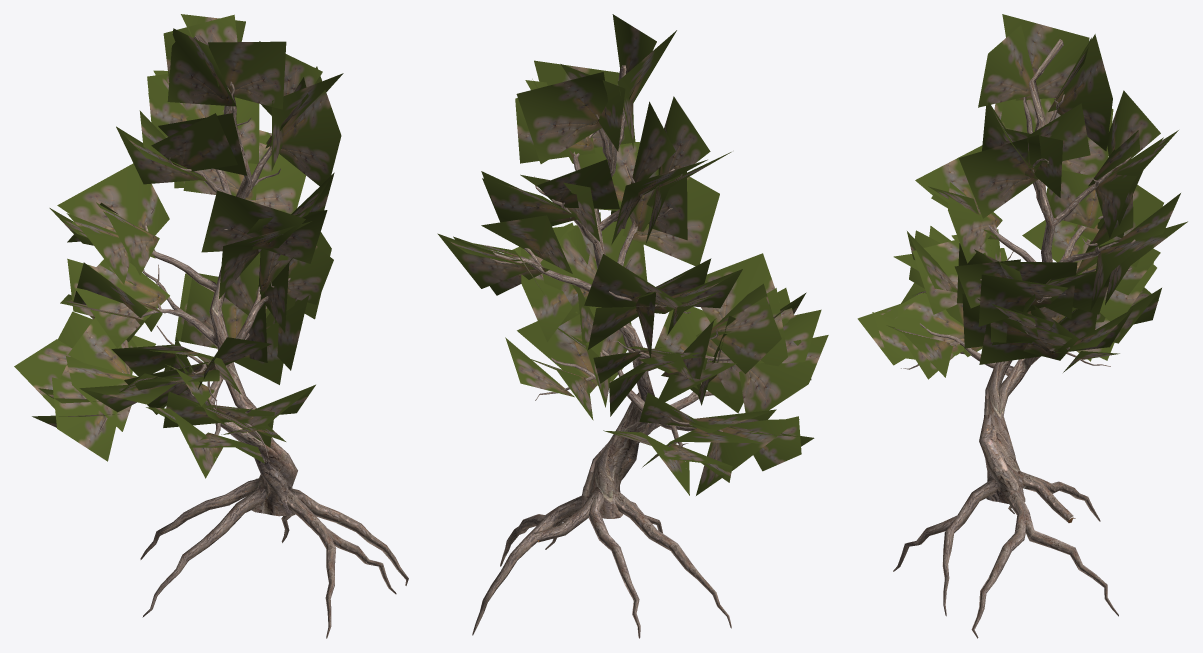
File: tree_old_dead.glb
3 renders of one model, left to right at view 1: azimuth 30°, elevation 25°; view 2: azimuth 150°, elevation 25°; view 3: azimuth 270°, elevation 25°, orthographic. The views are drawn at different scales.
Visible parts, largest first — view 1: Tree_2_Tree_2Mat_0, Tree_0_Tree_0Mat_0; view 2: Tree_2_Tree_2Mat_0, Tree_0_Tree_0Mat_0; view 3: Tree_2_Tree_2Mat_0, Tree_0_Tree_0Mat_0.
Part boxes in pixels (x1,y1,x2,y2): Tree_2_Tree_2Mat_0: [14, 14, 343, 478]; Tree_0_Tree_0Mat_0: [92, 35, 408, 638]; Tree_2_Tree_2Mat_0: [437, 14, 828, 495]; Tree_0_Tree_0Mat_0: [472, 65, 731, 638]; Tree_2_Tree_2Mat_0: [857, 14, 1187, 379]; Tree_0_Tree_0Mat_0: [893, 39, 1135, 638].
Bounding box in the file's own units: 2.57 × 4.24 × 2.36.
Materials: 3 (3 with a texture image).
